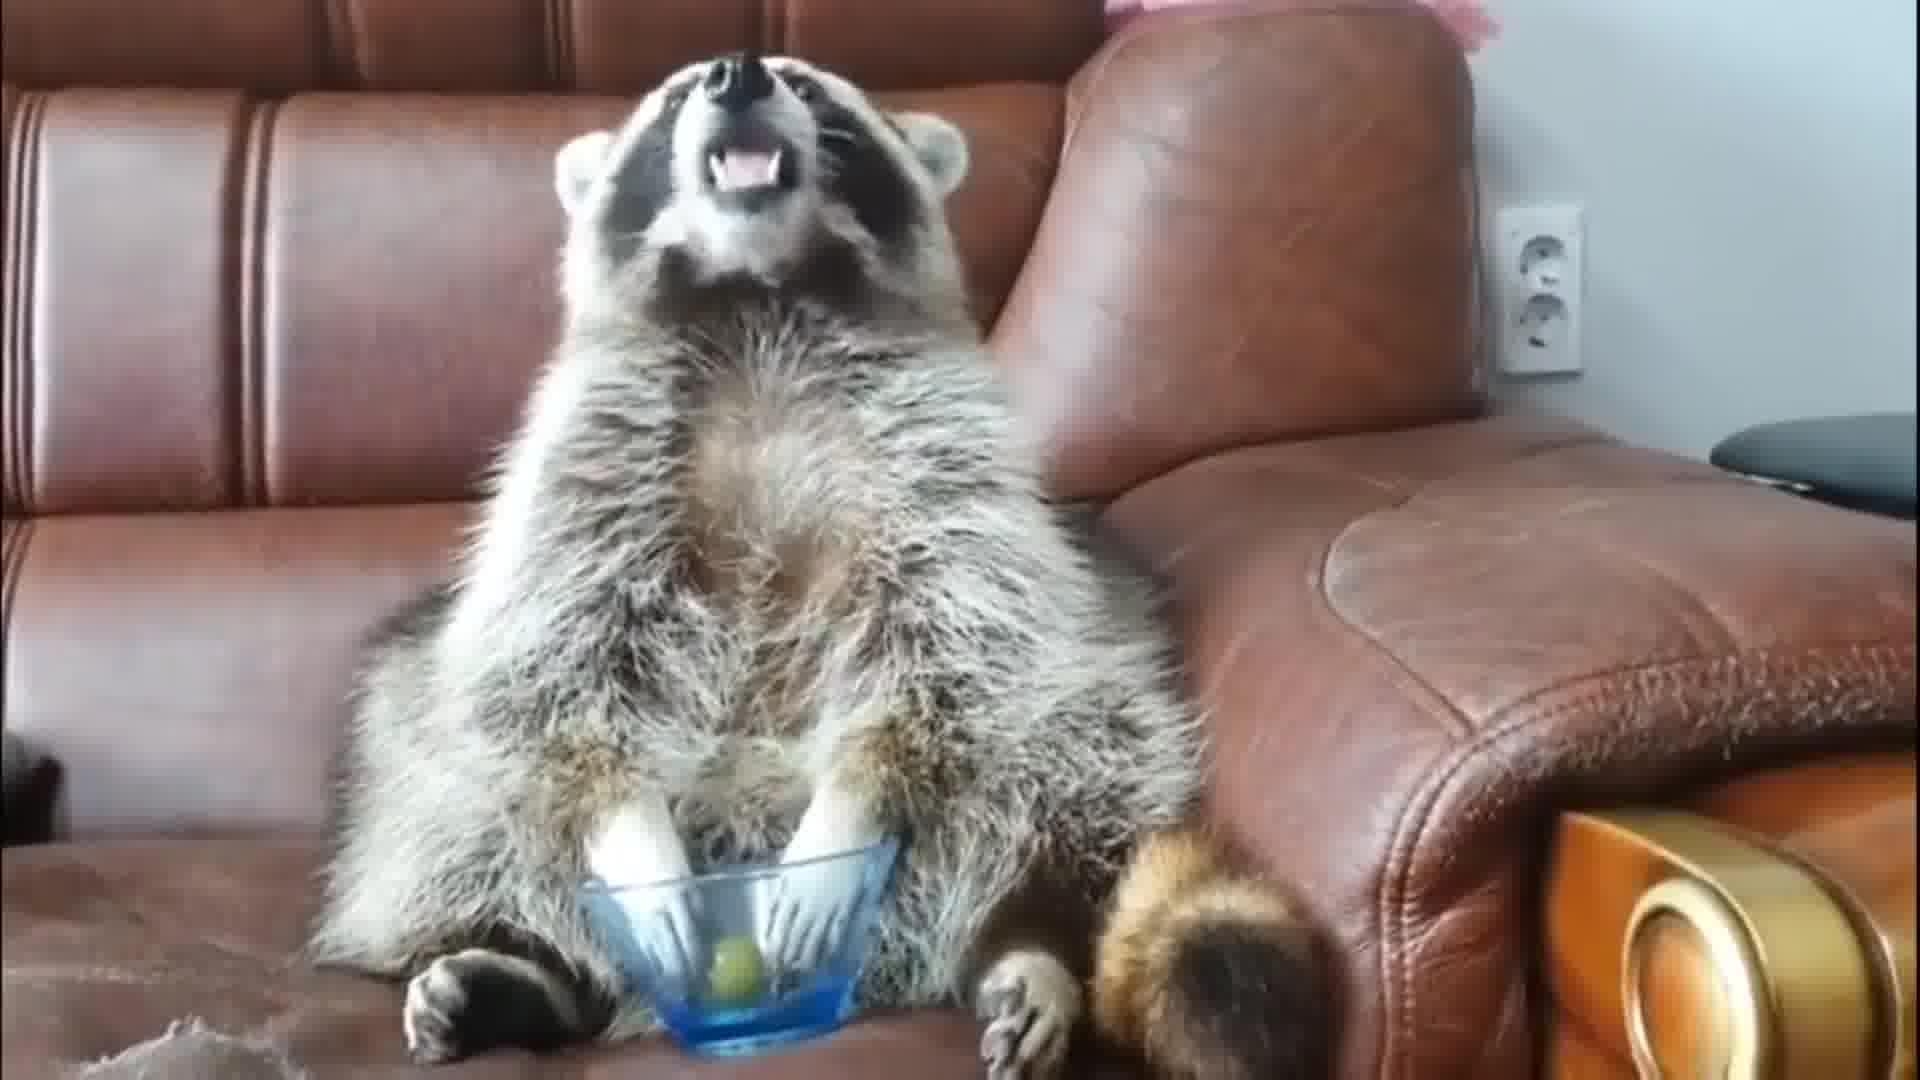raccoon: (320, 41, 1346, 1080)
